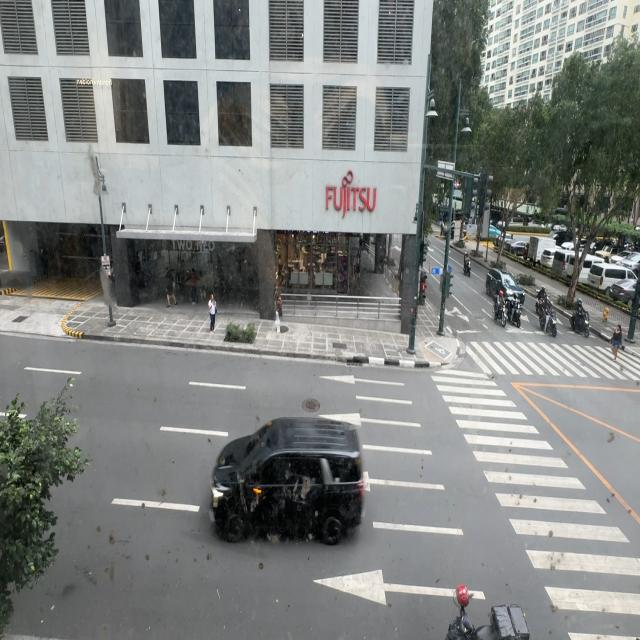crossing: (610, 326, 622, 360)
